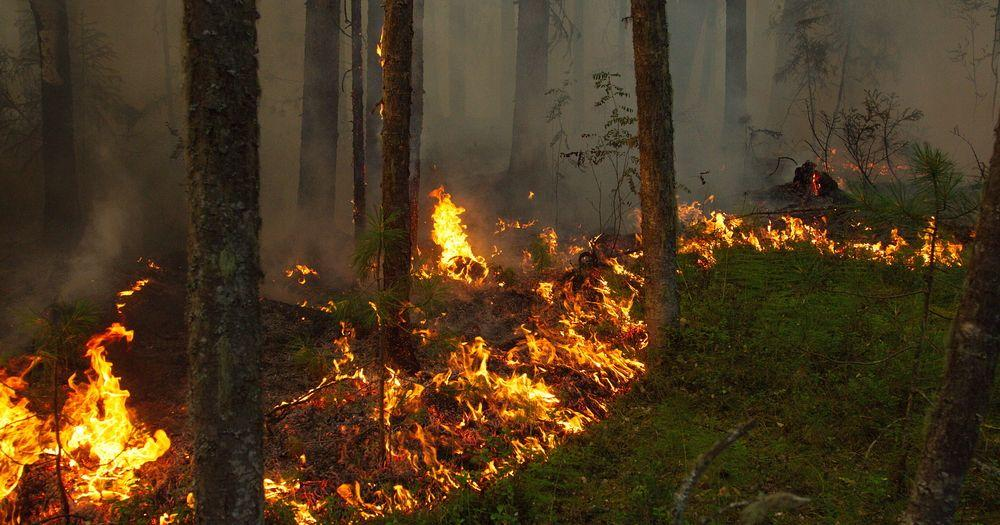Fire: (3, 192, 650, 520), (678, 156, 983, 275)
